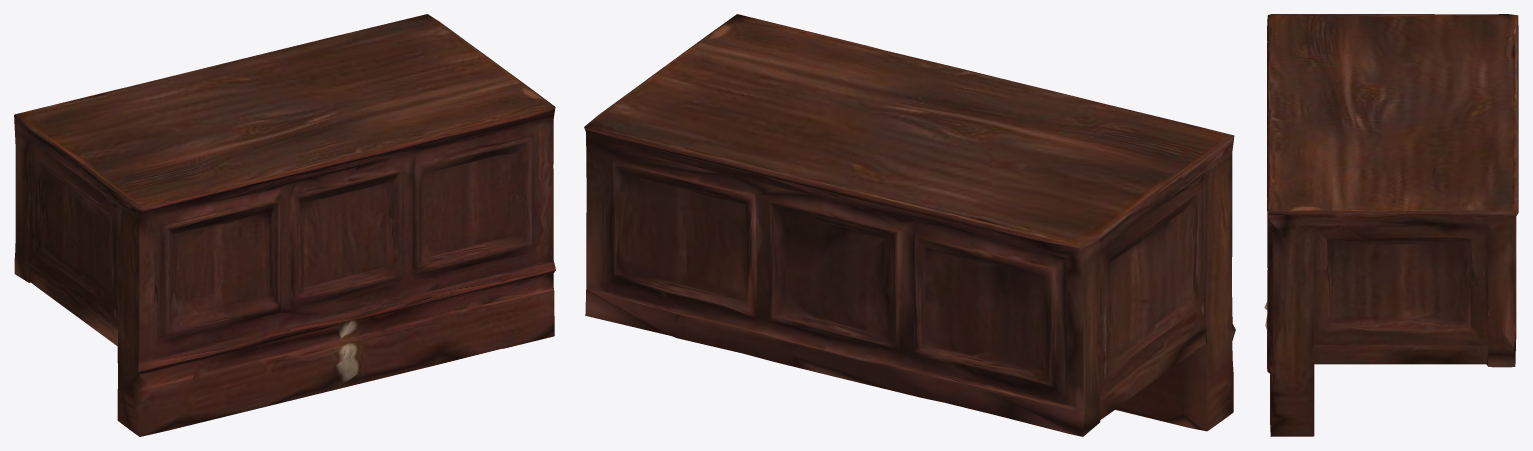
Rendered from 木质护墙板.glb.
3 views of the same model, side by side, from view 1: azimuth 30°, elevation 25°; view 2: azimuth 150°, elevation 25°; view 3: azimuth 270°, elevation 25° (orthographic). The views are drawn at different scales.
Parts seen in each view (by area): view 1: tripo_node_cc2882de-623d-4a24-8631-9d44b44a9957; view 2: tripo_node_cc2882de-623d-4a24-8631-9d44b44a9957; view 3: tripo_node_cc2882de-623d-4a24-8631-9d44b44a9957.
Part boxes in pixels (box(x1,y1,x2,y2)): tripo_node_cc2882de-623d-4a24-8631-9d44b44a9957: box(14, 14, 555, 436); tripo_node_cc2882de-623d-4a24-8631-9d44b44a9957: box(584, 14, 1235, 436); tripo_node_cc2882de-623d-4a24-8631-9d44b44a9957: box(1264, 14, 1518, 436).
Bounding box in the file's own units: 0.9995 × 0.5307 × 0.5424.
1 material, 1 textured.
